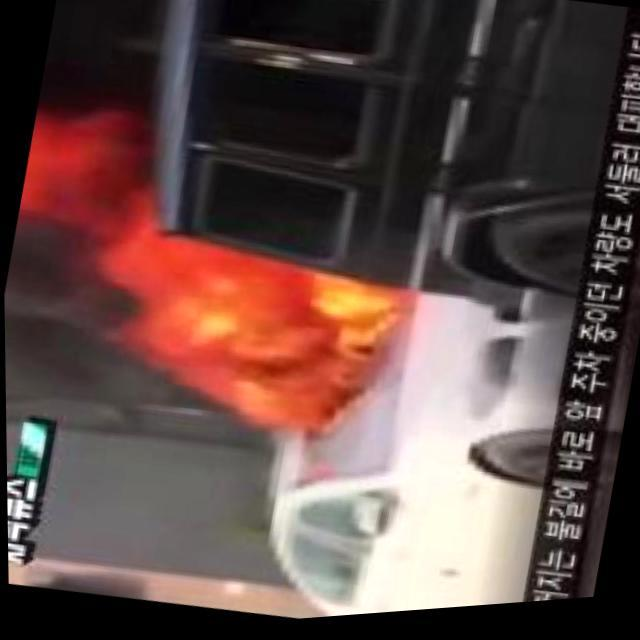fire: (59, 202, 417, 438)
